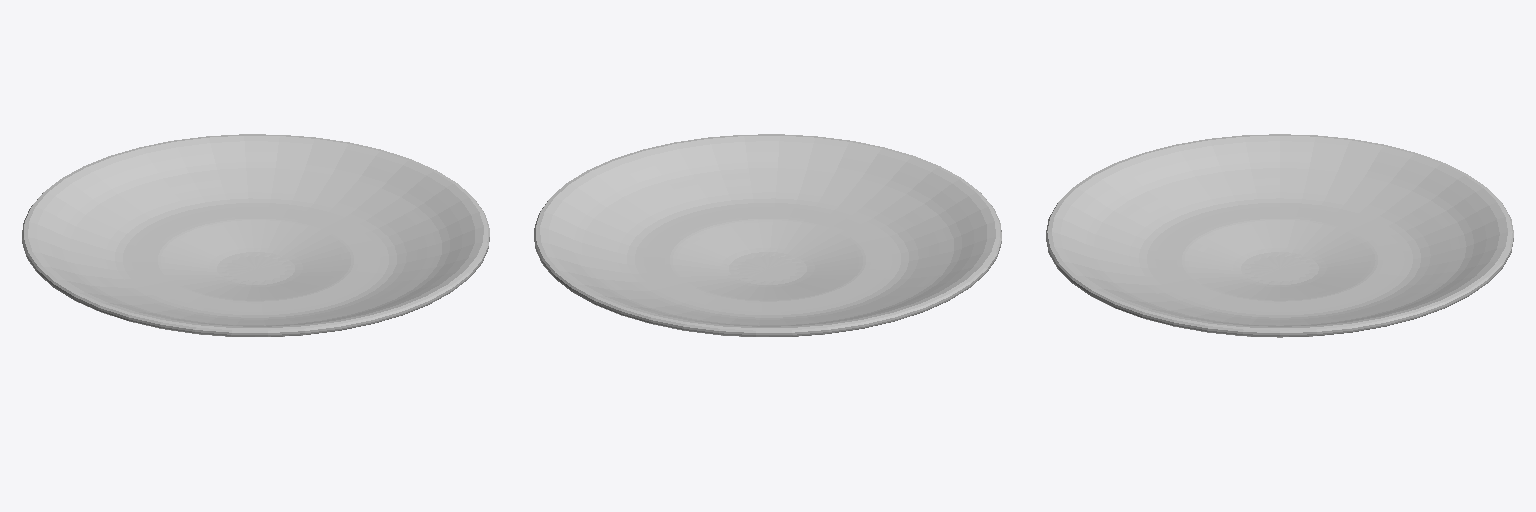
The model's file is omelette_plate.obj.
3 renders of one model, left to right at view 1: azimuth 30°, elevation 25°; view 2: azimuth 150°, elevation 25°; view 3: azimuth 270°, elevation 25°, orthographic.
Visible parts, largest first — view 1: plate_Circle.002; view 2: plate_Circle.002; view 3: plate_Circle.002.
Part boxes in pixels (left/top/right/bottom): plate_Circle.002: left=22, top=134, right=489, bottom=336; plate_Circle.002: left=534, top=134, right=1001, bottom=336; plate_Circle.002: left=1046, top=134, right=1513, bottom=337.
Bounding box in the file's own units: 3.34 × 0.3777 × 3.34.